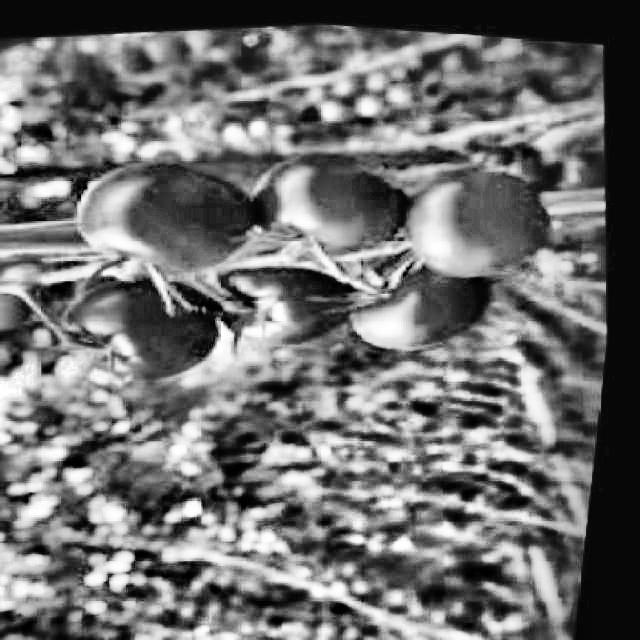plants: (0, 68, 594, 426)
